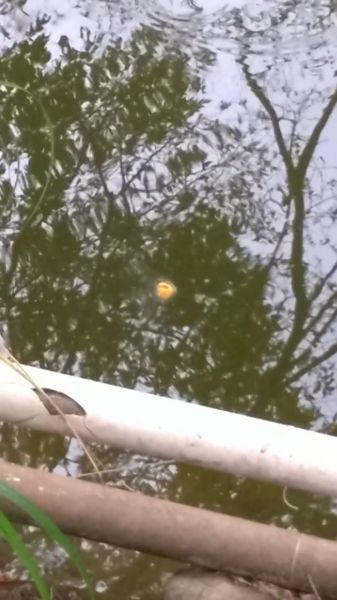eggs: (152, 275, 178, 301)
